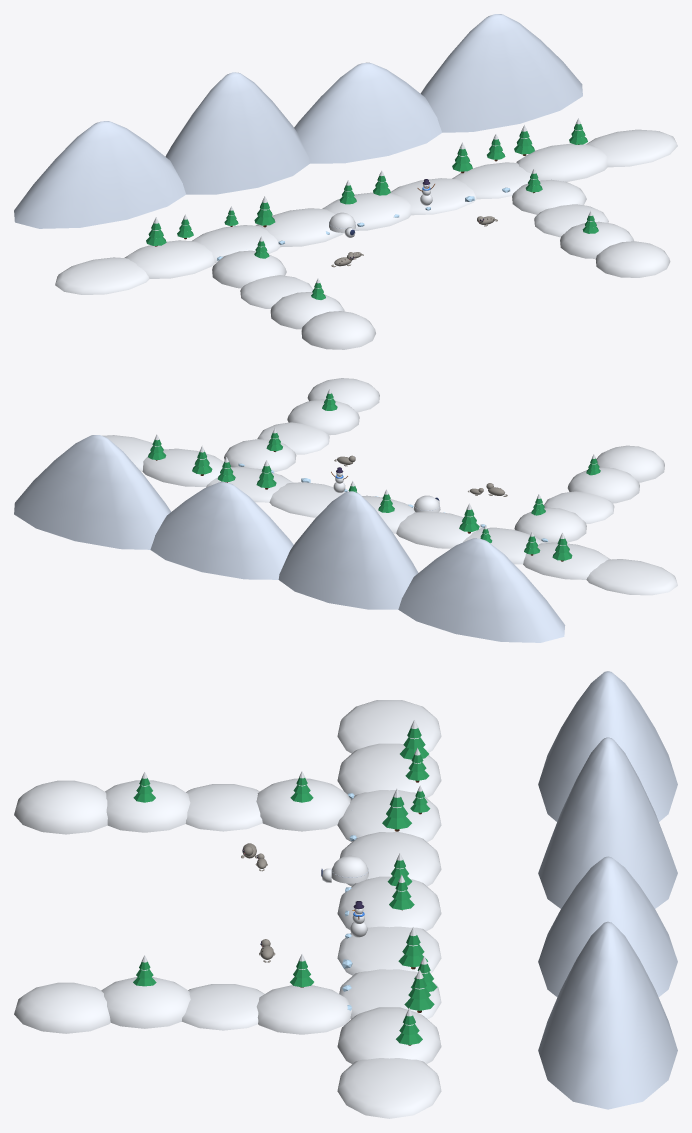
Rendered from shore_ice.glb.
3 renders of one model, top to bottom at view 1: azimuth 30°, elevation 25°; view 2: azimuth 150°, elevation 25°; view 3: azimuth 270°, elevation 25°, orthographic. The views are drawn at different scales.
Parts seen in each view (by area): view 1: shore_ice_mesh; view 2: shore_ice_mesh; view 3: shore_ice_mesh.
Part boxes in pixels (left/top/right/bottom): shore_ice_mesh: left=14, top=14, right=677, bottom=349; shore_ice_mesh: left=14, top=378, right=677, bottom=642; shore_ice_mesh: left=14, top=671, right=677, bottom=1118.
Bounding box in the file's own units: 113 × 17 × 75.96.
